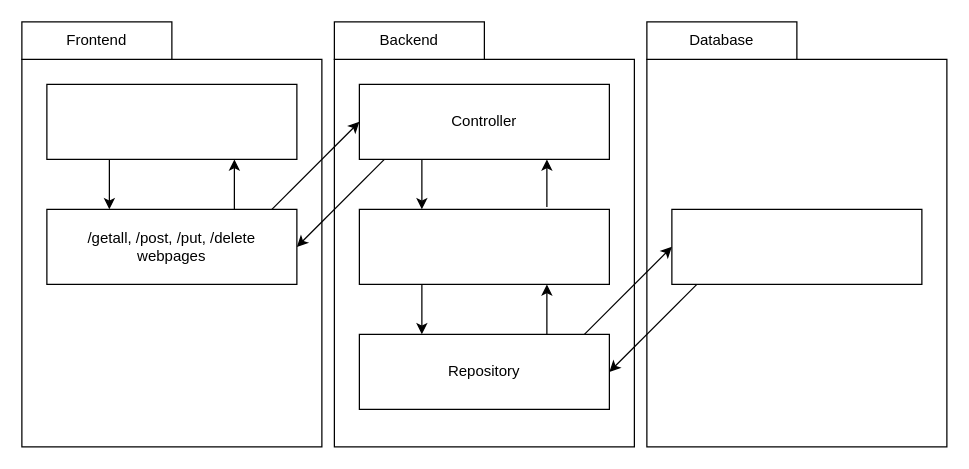
This 969x469 diagram has some shape labels left out. The box of each missing label's shape, as (x1, y1, x2, y2) in pixels:
/index.html webpage: (46, 83, 297, 159)
Service: (358, 208, 609, 284)
SQL table: (671, 208, 922, 284)
